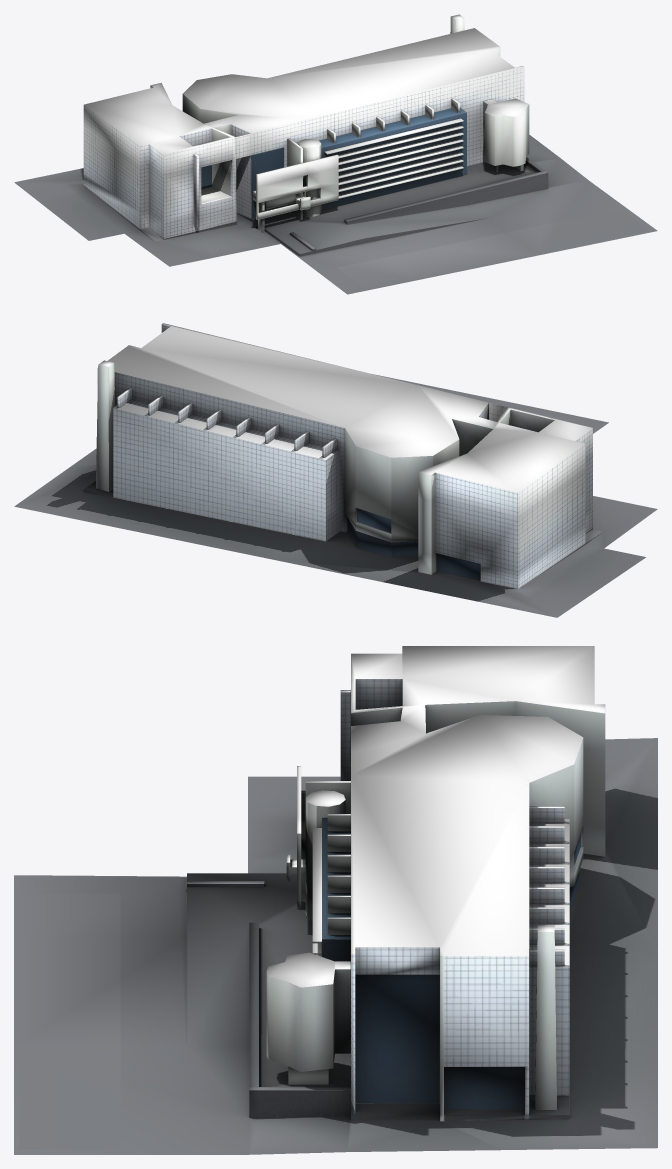
Rendered from macba.glb.
3 views of the same model, one above another, from view 1: azimuth 30°, elevation 25°; view 2: azimuth 150°, elevation 25°; view 3: azimuth 270°, elevation 25° (orthographic). The views are drawn at different scales.
Parts seen in each view (by area): view 1: macba2_Macba; view 2: macba2_Macba; view 3: macba2_Macba.
Part boxes in pixels (x1,y1,x2,y2): macba2_Macba: [14, 14, 657, 294]; macba2_Macba: [14, 323, 657, 617]; macba2_Macba: [14, 646, 657, 1154].
Size of the model in its own units: 104 by 24.13 by 74.57.
Materials: 1 (1 with a texture image).
